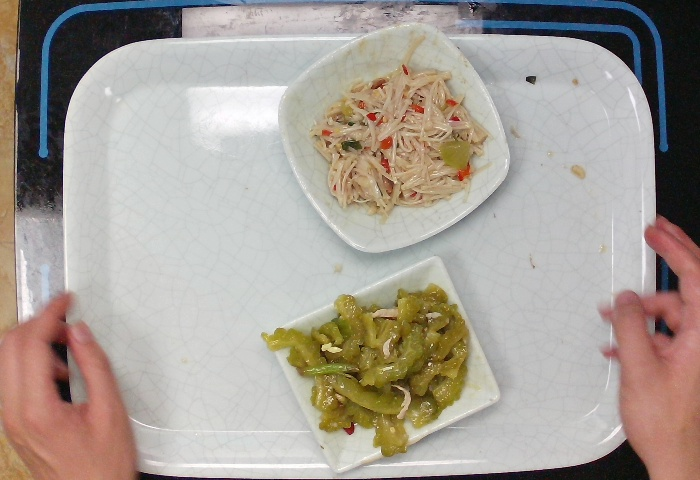WCQzf-Da_Si_Fang_Die: (277, 20, 512, 256)
WCQzf-Ru_Ci_Si_Fang_Die: (263, 255, 506, 470)
